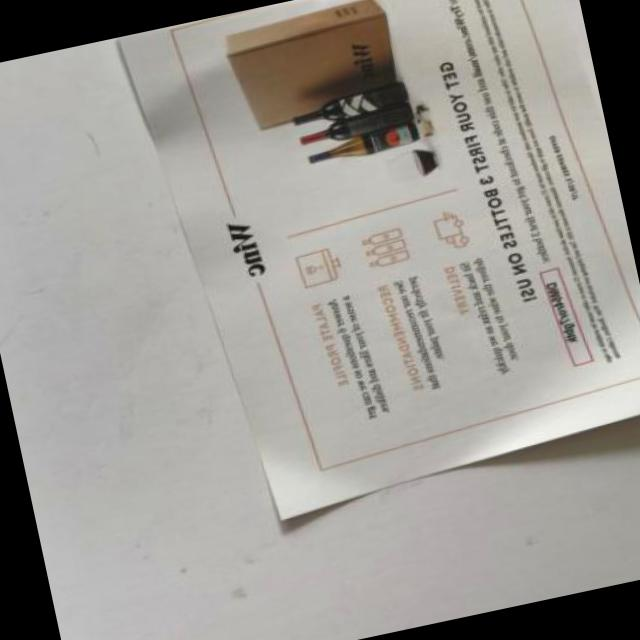cardboard paper: (117, 0, 640, 515), (224, 0, 391, 126)
